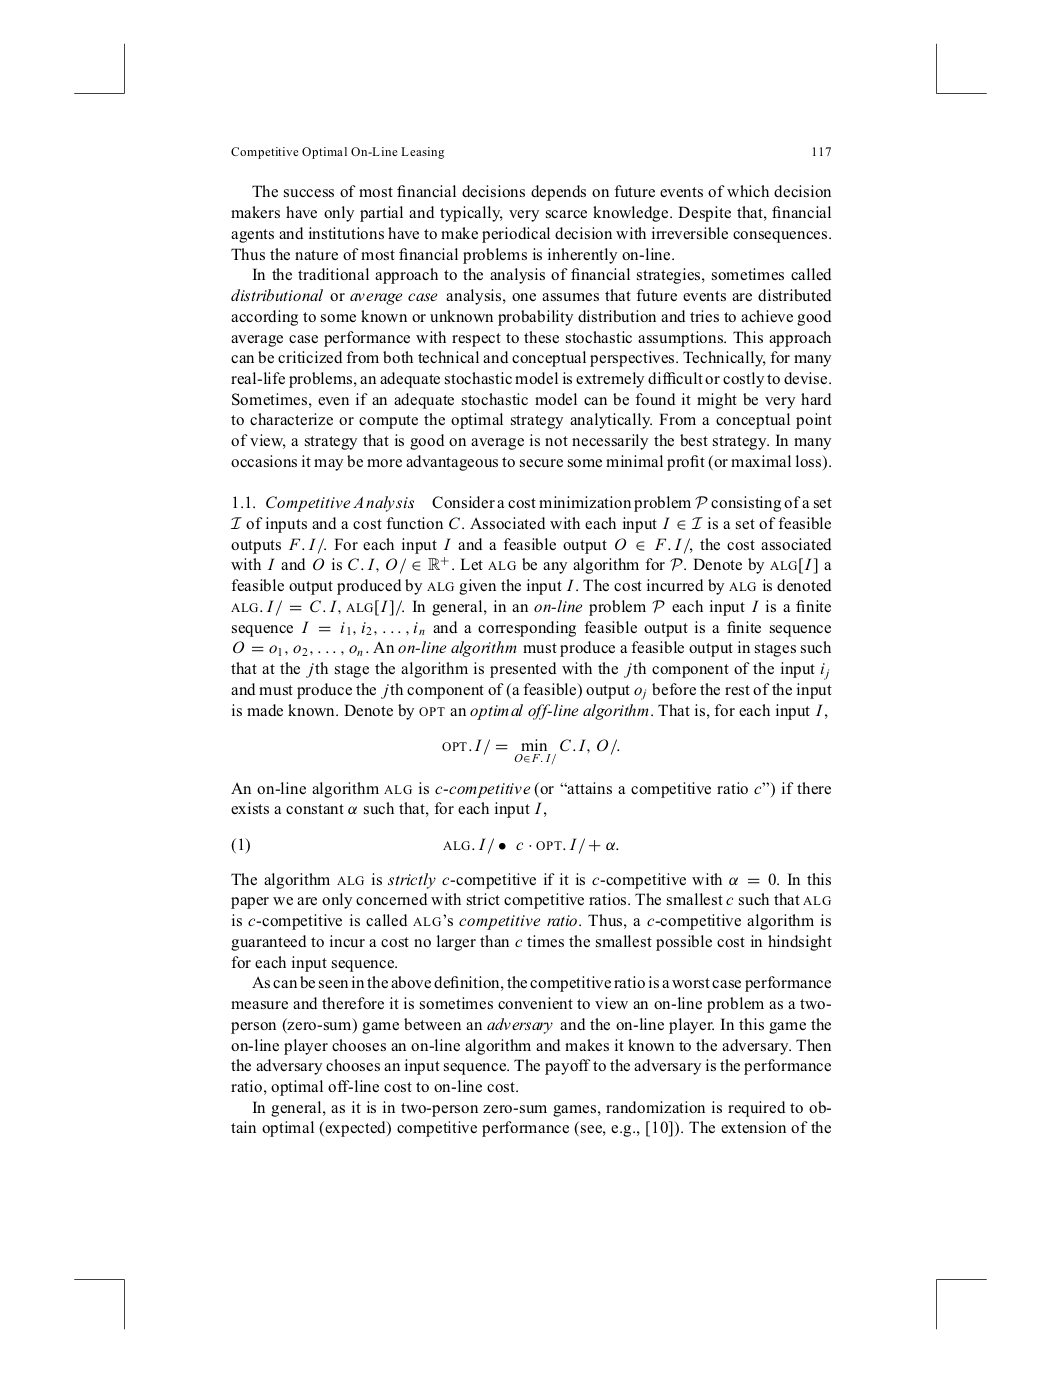formula: (231, 837, 619, 854), (442, 738, 619, 765)
